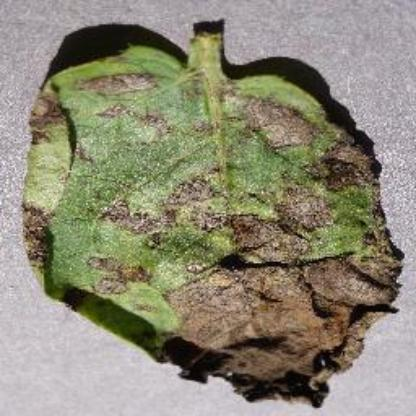Early-Blight: (22, 21, 404, 406)
